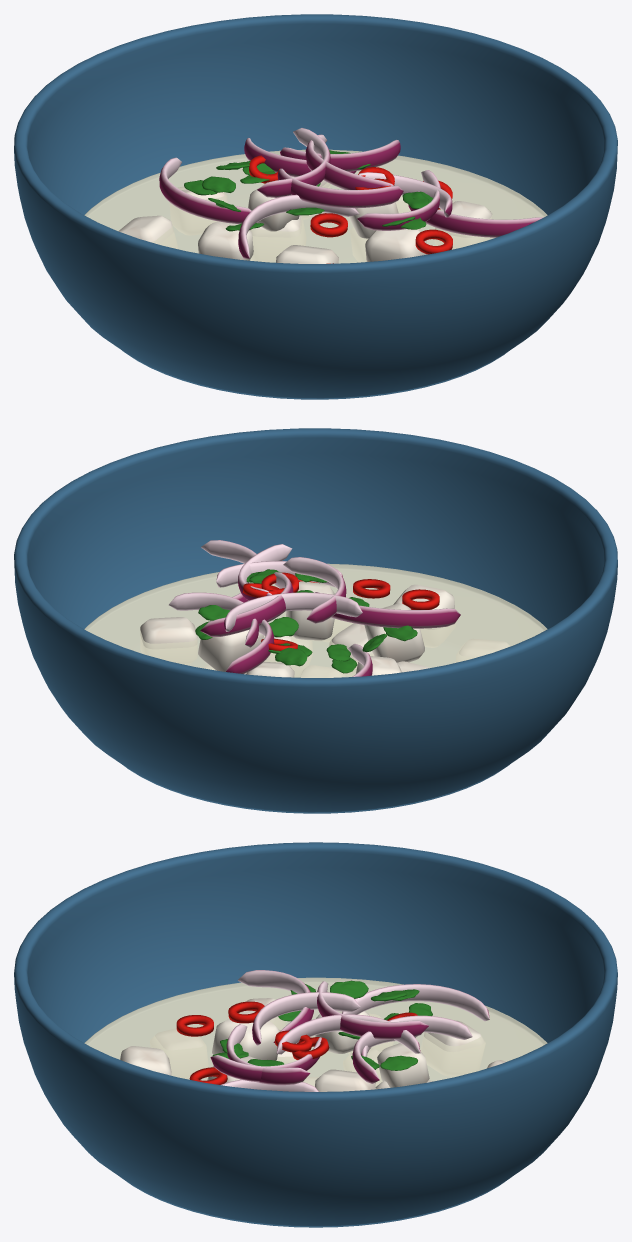
File: paso-4.glb
3 renders of one model, top to bottom at view 1: azimuth 30°, elevation 25°; view 2: azimuth 150°, elevation 25°; view 3: azimuth 270°, elevation 25°, orthographic.
Parts seen in each view (by area): view 1: paso-4-0, paso-4-24, paso-4-29, paso-4-34, paso-4-31, paso-4-26, paso-4-23, paso-4-30, paso-4-33, paso-4-21, paso-4-32, paso-4-28 (+10 smaller); view 2: paso-4-0, paso-4-24, paso-4-26, paso-4-30, paso-4-1, paso-4-28, paso-4-29, paso-4-19, paso-4-22, paso-4-33, paso-4-23, paso-4-27 (+10 smaller); view 3: paso-4-0, paso-4-24, paso-4-34, paso-4-29, paso-4-30, paso-4-22, paso-4-28, paso-4-26, paso-4-20, paso-4-32, paso-4-25, paso-4-19 (+9 smaller).
Part boxes in pixels (box(x1,y1,x2,y2)): paso-4-0: box(14, 14, 617, 399); paso-4-24: box(84, 149, 547, 263); paso-4-29: box(277, 168, 403, 208); paso-4-34: box(159, 157, 251, 223); paso-4-31: box(408, 204, 543, 237); paso-4-26: box(238, 194, 359, 258); paso-4-23: box(365, 229, 427, 261); paso-4-30: box(257, 128, 330, 197); paso-4-33: box(280, 139, 400, 171); paso-4-21: box(198, 222, 253, 260); paso-4-32: box(357, 170, 440, 230); paso-4-28: box(305, 134, 393, 189); paso-4-0: box(14, 428, 617, 813); paso-4-24: box(84, 563, 547, 677); paso-4-26: box(315, 592, 460, 628); paso-4-30: box(224, 592, 362, 631); paso-4-1: box(140, 617, 197, 649); paso-4-28: box(200, 572, 293, 636); paso-4-29: box(283, 557, 346, 623); paso-4-19: box(198, 620, 263, 671); paso-4-22: box(364, 603, 424, 662); paso-4-33: box(169, 592, 258, 647); paso-4-23: box(286, 581, 334, 640); paso-4-27: box(226, 619, 274, 673); paso-4-0: box(14, 842, 617, 1227); paso-4-24: box(84, 977, 547, 1089); paso-4-34: box(342, 984, 489, 1021); paso-4-29: box(252, 992, 360, 1045); paso-4-30: box(317, 981, 428, 1039); paso-4-22: box(212, 1010, 279, 1060); paso-4-28: box(276, 1014, 420, 1054); paso-4-26: box(237, 970, 313, 1042); paso-4-20: box(377, 1043, 429, 1087); paso-4-32: box(226, 1024, 310, 1085); paso-4-25: box(210, 1037, 321, 1082); paso-4-19: box(315, 1069, 375, 1091).
Bounding box in the file's own units: 0.1998 × 0.068 × 0.1998.
